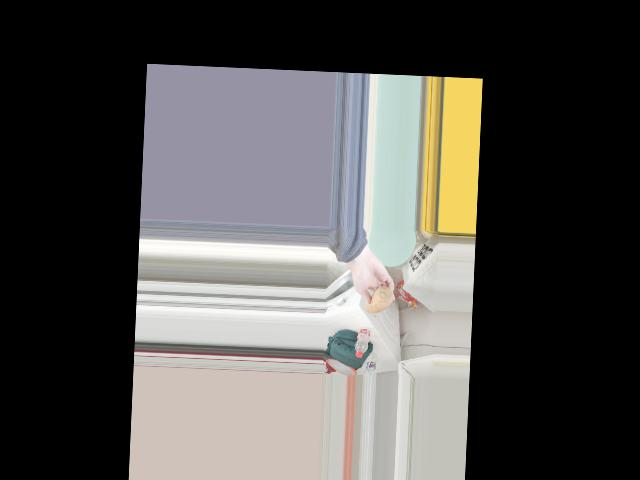sweet_potato: (362, 281, 390, 314)
